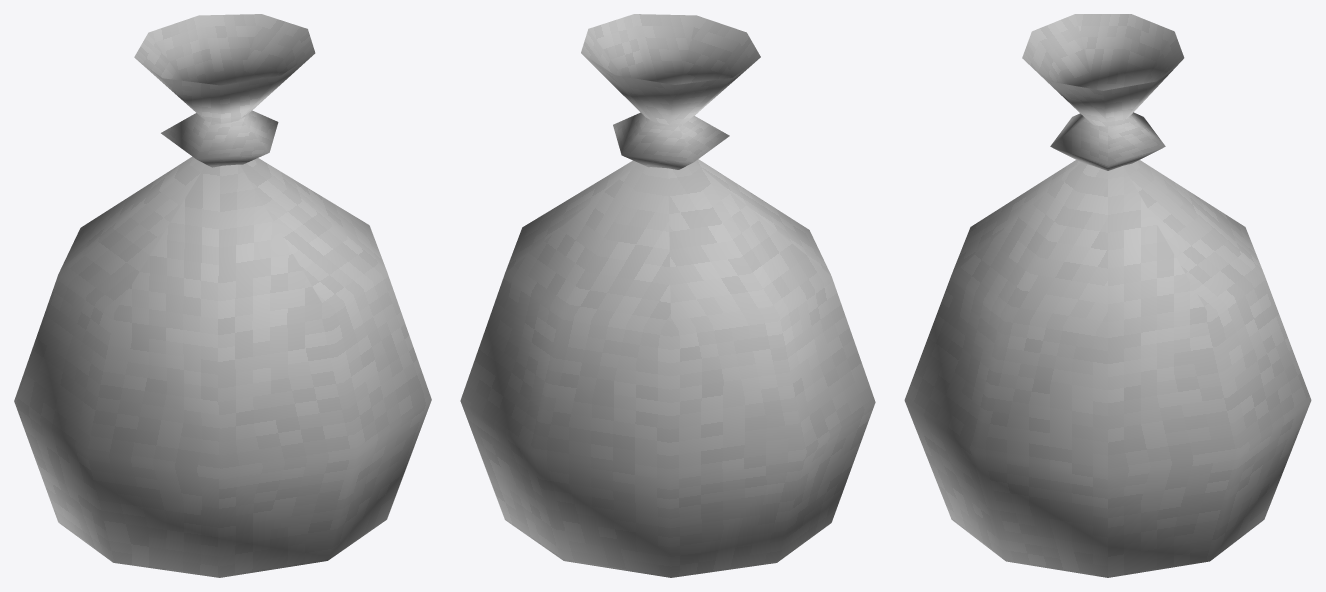
Rendered from bag.obj.
The picture shows the model from 3 angles, left to right: view 1: azimuth 30°, elevation 25°; view 2: azimuth 150°, elevation 25°; view 3: azimuth 270°, elevation 25°; orthographic projection.
Parts seen in each view (by area): view 1: Cylinder01, Cylinder03; view 2: Cylinder01, Cylinder03; view 3: Cylinder01, Cylinder03.
Part boxes in pixels (x1,y1,x2,y2): Cylinder01: (14,14,431,577); Cylinder03: (161,110,278,167); Cylinder01: (460,14,875,577); Cylinder03: (613,112,729,169); Cylinder01: (904,14,1311,577); Cylinder03: (1050,112,1165,170).
Size of the model in its own units: 4.33 by 5.91 by 4.32.
